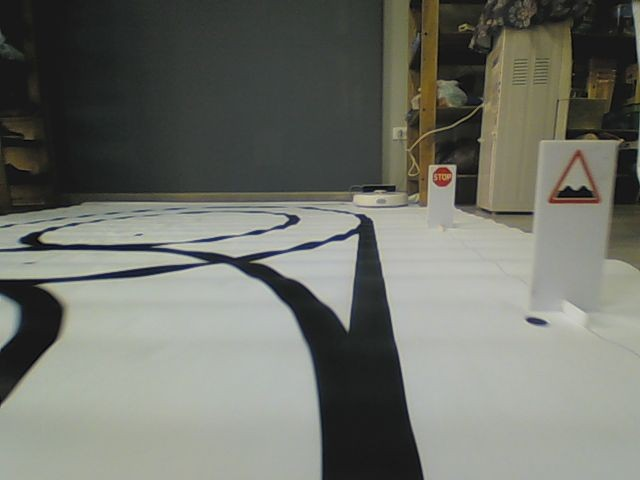Stop: (432, 166, 453, 188)
